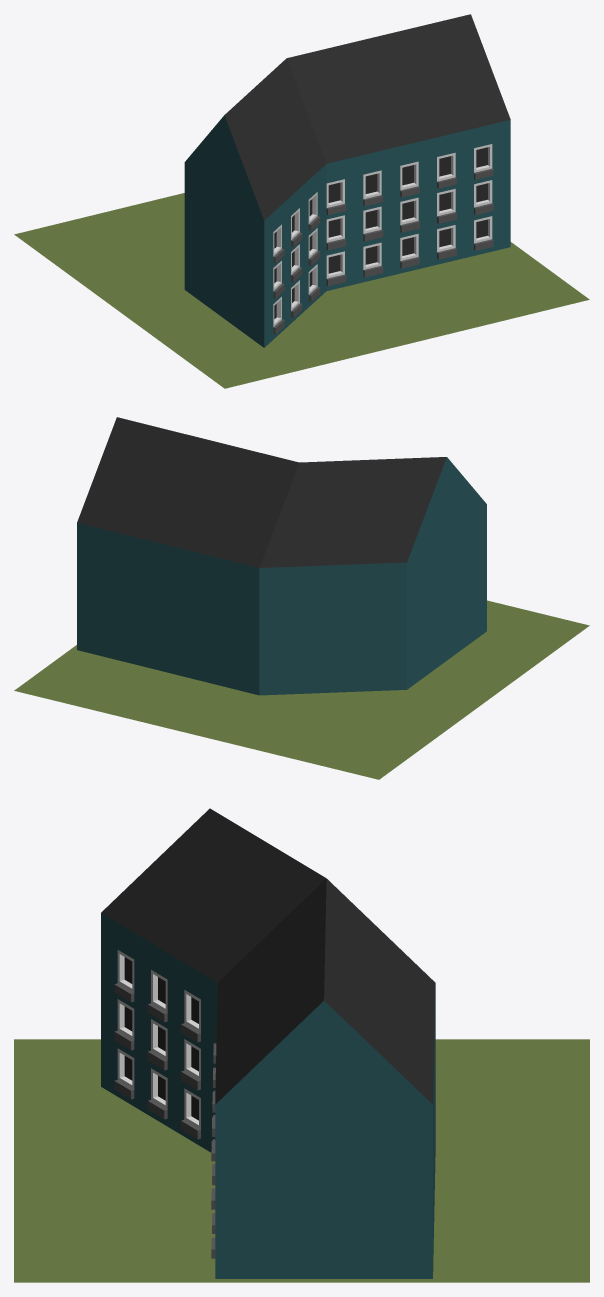
File: 3x2_Residental_Flats_L.fbx
3 views of the same model, one above another, from view 1: azimuth 30°, elevation 25°; view 2: azimuth 150°, elevation 25°; view 3: azimuth 270°, elevation 25° (orthographic). The views are drawn at different scales.
Parts seen in each view (by area): view 1: 3x2 Residental Flats L; view 2: 3x2 Residental Flats L; view 3: 3x2 Residental Flats L.
Boxes of the visible parts, x1=… form: 3x2 Residental Flats L: x1=14, y1=14, x2=589, y2=388; 3x2 Residental Flats L: x1=14, y1=417, x2=589, y2=779; 3x2 Residental Flats L: x1=14, y1=808, x2=589, y2=1282.
Size of the model in its own units: 3 by 1.6 by 3.
